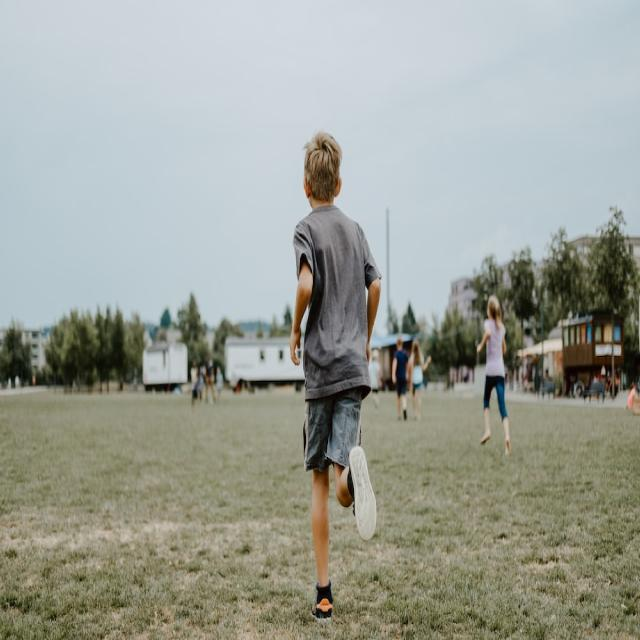Person: (290, 131, 380, 625), (477, 296, 512, 456), (408, 340, 431, 422), (391, 339, 412, 420)
